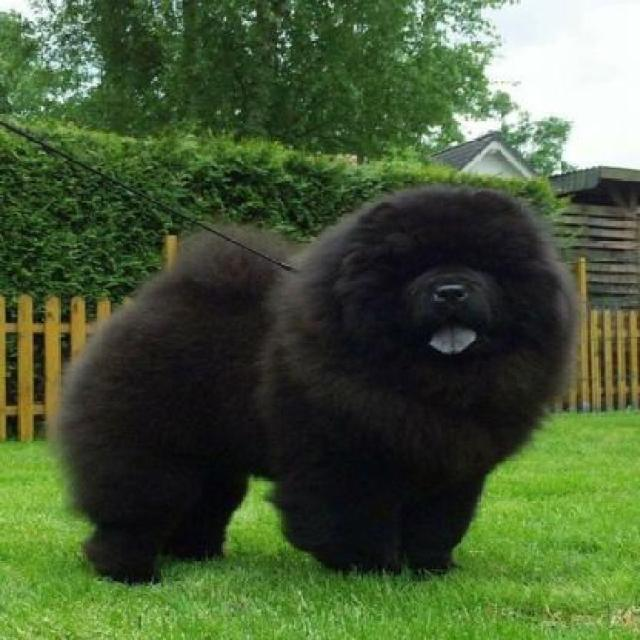animals: (46, 159, 600, 627)
